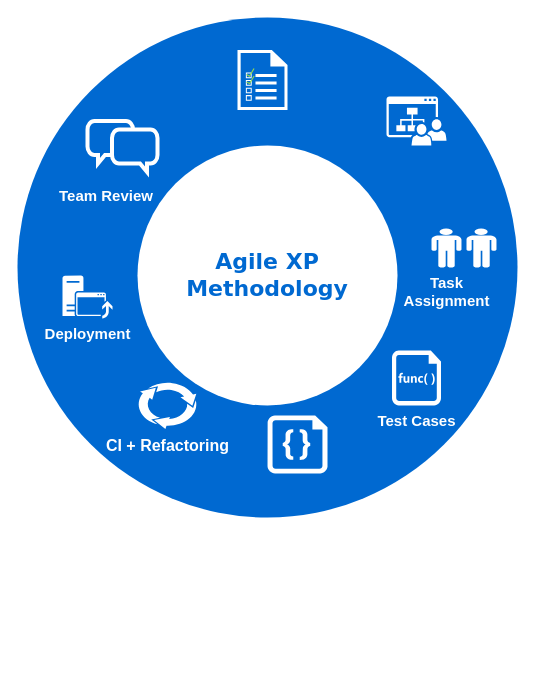
This 534x677 diagram has some shape labels left out. The shapes that lost their labels are listed below. From the top down, each one's centre as x and y in pixels, then its label:
the point at 262,80: Task Log
the point at 416,120: Voting and Time Estimation
the point at 297,444: Implementation
